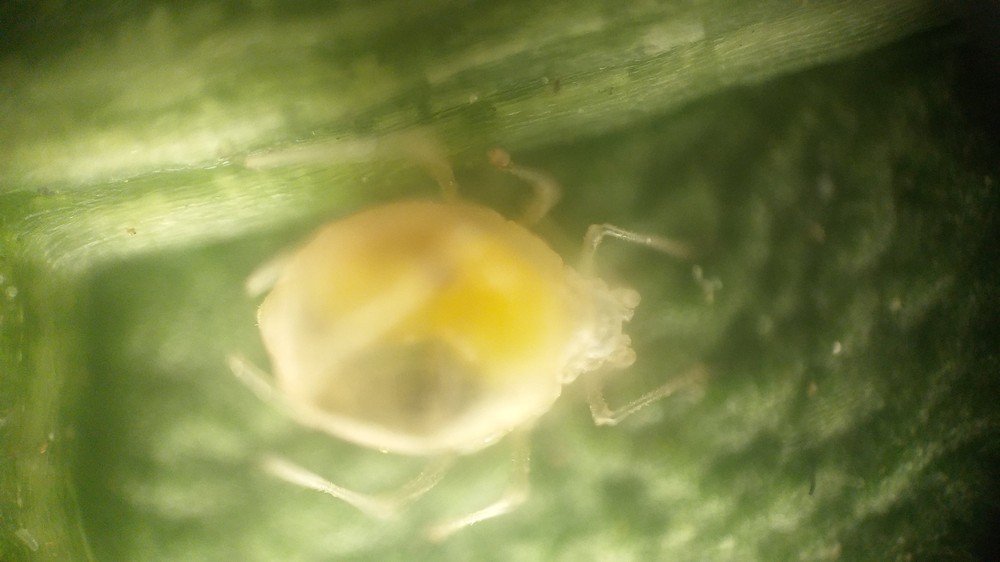Pulgon: (215, 120, 738, 542)
